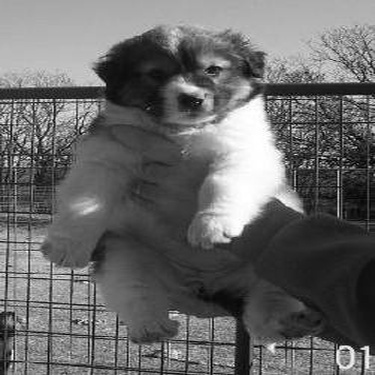dog: (36, 13, 333, 350)
